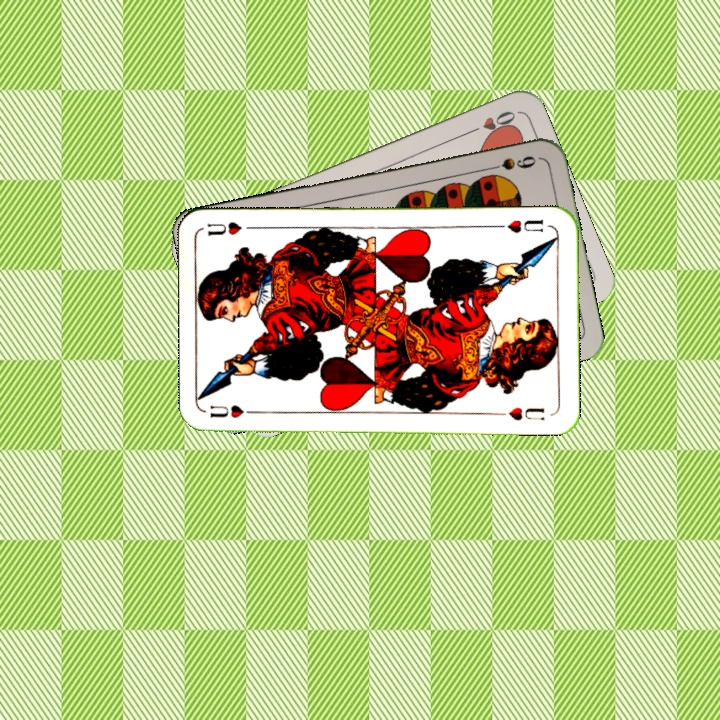HO: (463, 107, 519, 138)
HU: (206, 401, 263, 421), (493, 215, 546, 235)
S9: (481, 151, 539, 174)
